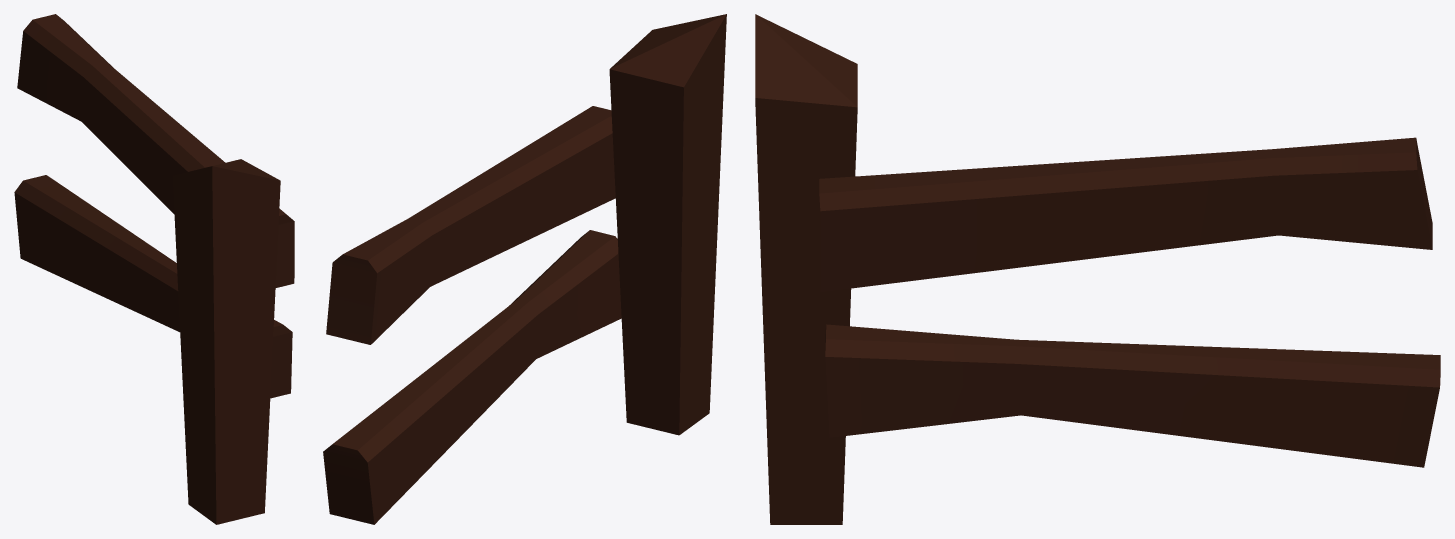
The model's file is SM_Fence3.FBX.
3 views of the same model, side by side, from view 1: azimuth 30°, elevation 25°; view 2: azimuth 150°, elevation 25°; view 3: azimuth 270°, elevation 25° (orthographic). The views are drawn at different scales.
Parts seen in each view (by area): view 1: Box001; view 2: Box001; view 3: Box001.
Boxes of the visible parts, box(x1,y1,x2,y2) form: Box001: box(14, 14, 294, 524); Box001: box(323, 14, 726, 524); Box001: box(755, 14, 1440, 524).
Size of the model in its own units: 1.57 by 5.1 by 6.68.
